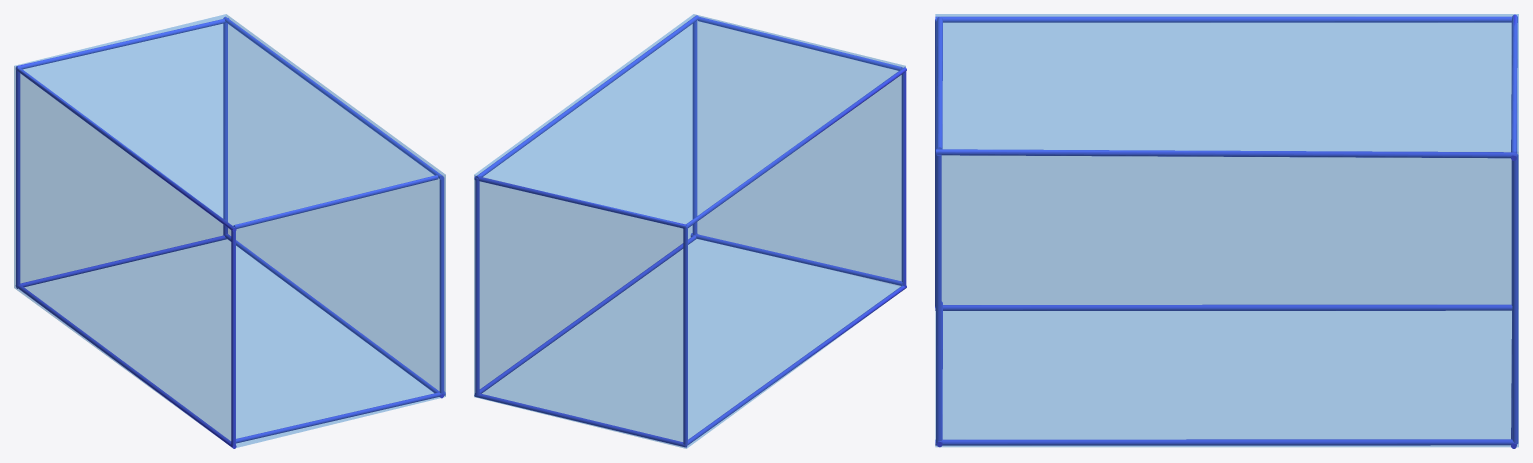
File: geobalok.fbx
3 renders of one model, left to right at view 1: azimuth 30°, elevation 25°; view 2: azimuth 150°, elevation 25°; view 3: azimuth 270°, elevation 25°, orthographic. The views are drawn at different scales.
Parts seen in each view (by area): view 1: Cube, Cylinder.004, Cylinder.006, Cylinder.005, Cylinder.007, Cylinder.001, Cylinder.008, Cylinder.010, Cylinder.011, Cylinder.009, Cylinder, Cylinder.003 (+1 smaller); view 2: Cube, Cylinder.005, Cylinder.004, Cylinder.006, Cylinder.007, Cylinder, Cylinder.001, Cylinder.010, Cylinder.008, Cylinder.009, Cylinder.011, Cylinder.002 (+1 smaller); view 3: Cube, Cylinder.004, Cylinder.007, Cylinder.005, Cylinder.006, Cylinder.002, Cylinder.001, Cylinder.008, Cylinder.011.
Part boxes in pixels (left/top/right/bottom): Cube: left=14, top=14, right=445, bottom=447; Cylinder.004: left=16, top=67, right=236, bottom=231; Cylinder.006: left=15, top=284, right=236, bottom=448; Cylinder.005: left=223, top=16, right=443, bottom=179; Cylinder.007: left=224, top=233, right=443, bottom=398; Cylinder.001: left=439, top=177, right=444, bottom=394; Cylinder.008: left=16, top=18, right=228, bottom=69; Cylinder.010: left=236, top=391, right=445, bottom=443; Cylinder.011: left=233, top=175, right=438, bottom=228; Cylinder.009: left=16, top=235, right=226, bottom=288; Cylinder: left=231, top=229, right=235, bottom=446; Cylinder.003: left=16, top=69, right=20, bottom=286; Cube: left=474, top=14, right=905, bottom=448; Cylinder.005: left=475, top=15, right=698, bottom=178; Cylinder.004: left=686, top=67, right=906, bottom=228; Cylinder.006: left=686, top=285, right=906, bottom=446; Cylinder.007: left=475, top=233, right=698, bottom=394; Cylinder: left=901, top=70, right=906, bottom=287; Cylinder.001: left=692, top=20, right=697, bottom=234; Cylinder.010: left=690, top=233, right=902, bottom=285; Cylinder.008: left=474, top=176, right=687, bottom=228; Cylinder.009: left=474, top=393, right=687, bottom=447; Cylinder.011: left=697, top=16, right=902, bottom=70; Cylinder.002: left=475, top=177, right=479, bottom=395; Cube: left=935, top=14, right=1518, bottom=447; Cylinder.004: left=935, top=16, right=1512, bottom=22; Cylinder.007: left=935, top=439, right=1516, bottom=445; Cylinder.005: left=936, top=149, right=1516, bottom=158; Cylinder.006: left=935, top=304, right=1512, bottom=310; Cylinder.002: left=1512, top=154, right=1518, bottom=444; Cylinder.001: left=936, top=154, right=941, bottom=443; Cylinder.008: left=1511, top=14, right=1517, bottom=160; Cylinder.011: left=937, top=16, right=942, bottom=149.
Size of the model in its own units: 203 by 203 by 362.
